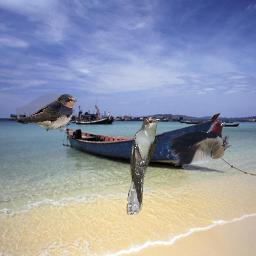Cuckoo: (126, 116, 163, 215)
Swallow: (16, 93, 77, 132)
Woodpecker: (171, 119, 232, 166)
